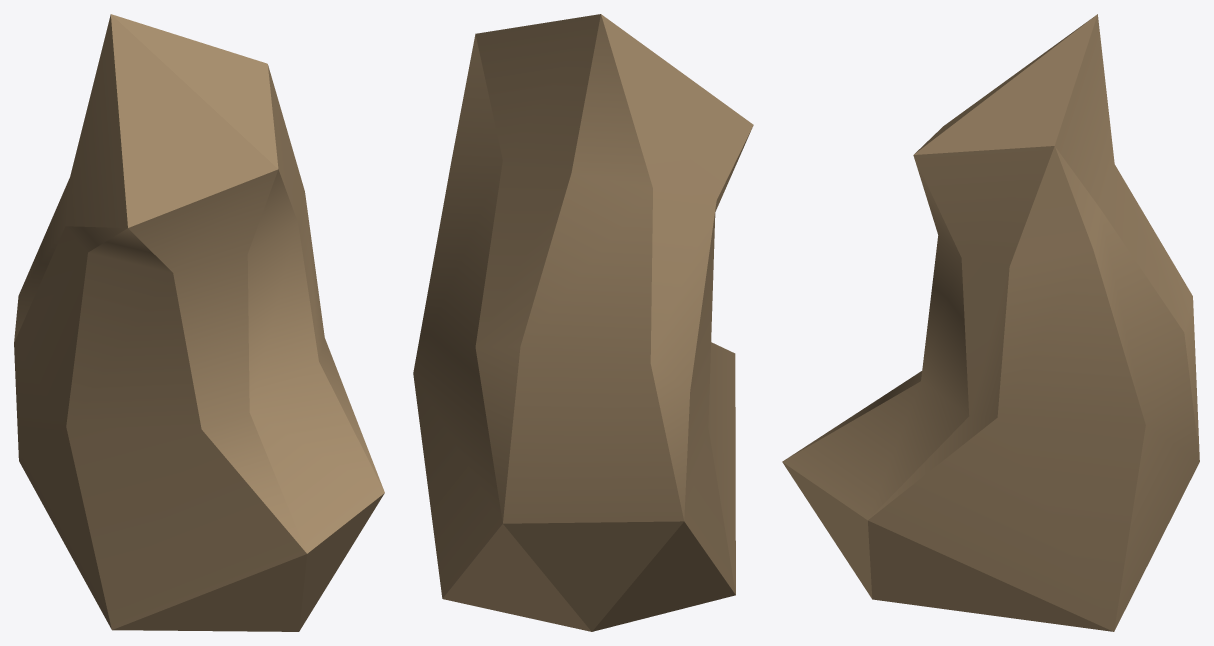
File: Rock 3.fbx
The picture shows the model from 3 angles, left to right: view 1: azimuth 30°, elevation 25°; view 2: azimuth 150°, elevation 25°; view 3: azimuth 270°, elevation 25°; orthographic projection. The views are drawn at different scales.
Parts seen in each view (by area): view 1: pPlatonic2; view 2: pPlatonic2; view 3: pPlatonic2.
Boxes of the visible parts, left/top/right/bottom form: pPlatonic2: left=14, top=14, right=384, bottom=631; pPlatonic2: left=413, top=14, right=753, bottom=631; pPlatonic2: left=782, top=14, right=1199, bottom=631.
Size of the model in its own units: 1.87 by 3.93 by 2.69.
